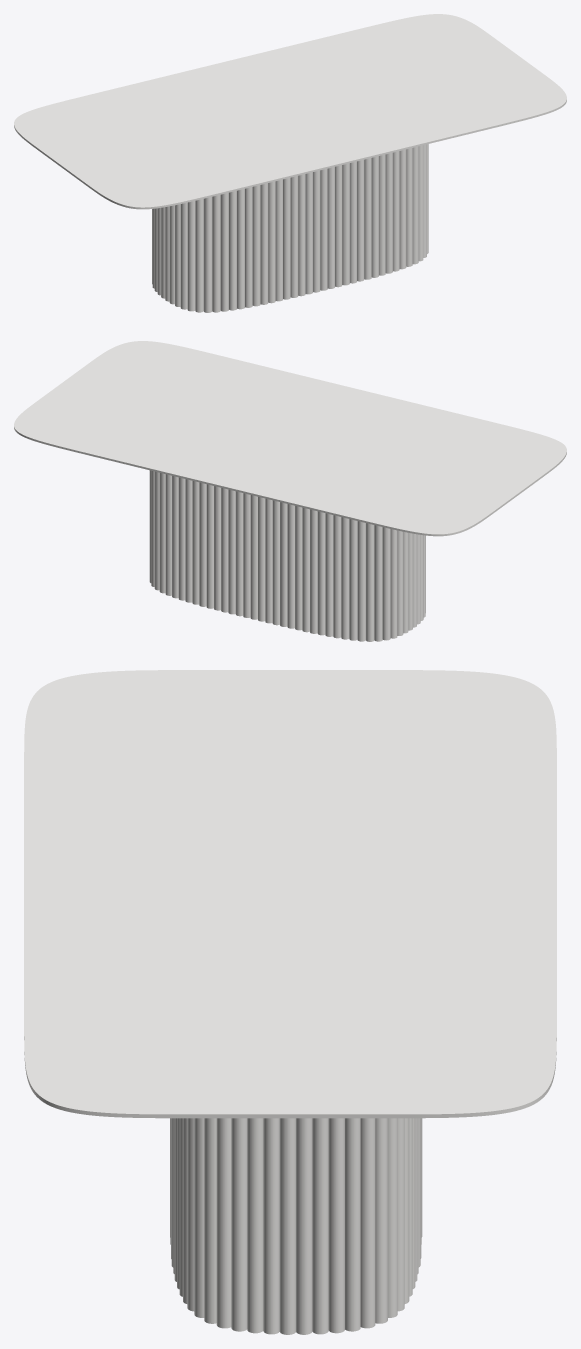
The model's file is purewhite_softrecta_facet_newtable.glb.
3 views of the same model, one above another, from view 1: azimuth 30°, elevation 25°; view 2: azimuth 150°, elevation 25°; view 3: azimuth 270°, elevation 25° (orthographic). The views are drawn at different scales.
Visible parts, largest first — view 1: facet_softrecta, newtable; view 2: facet_softrecta, newtable; view 3: facet_softrecta, newtable.
Boxes of the visible parts, <box> form: facet_softrecta: <box>14,14,566,209</box>; newtable: <box>152,144,428,312</box>; facet_softrecta: <box>14,341,566,536</box>; newtable: <box>149,470,425,641</box>; facet_softrecta: <box>24,670,556,1118</box>; newtable: <box>170,1118,422,1334</box>.
Size of the model in its own units: 7.5 by 2.5 by 3.8.
2 materials, 2 textured.
